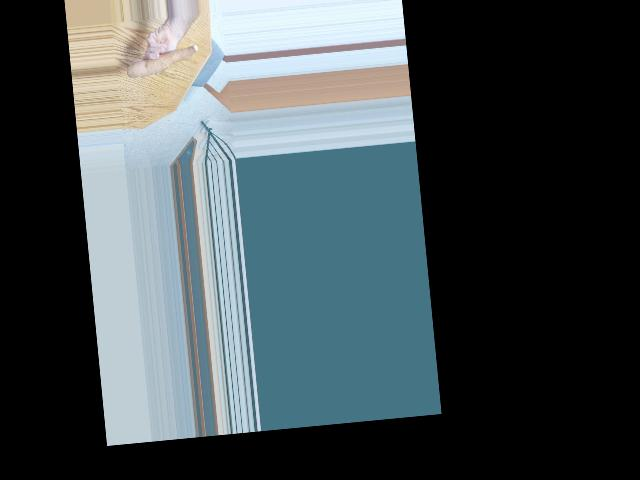sweet_potato: (127, 41, 201, 80)
